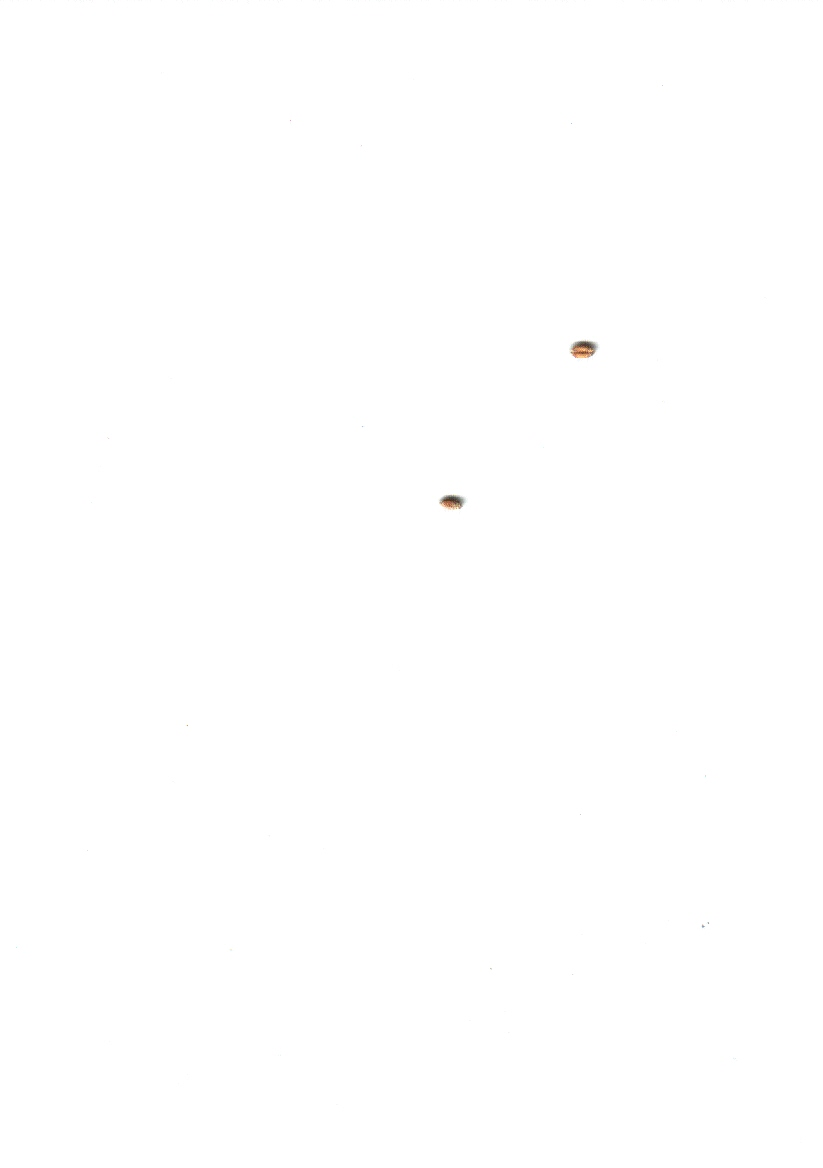grains: (562, 325, 605, 375), (432, 479, 473, 524)
